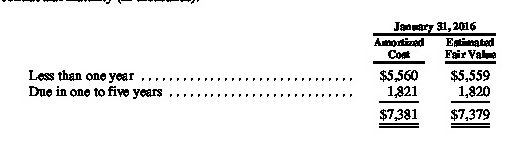table: (0, 0, 527, 158)
